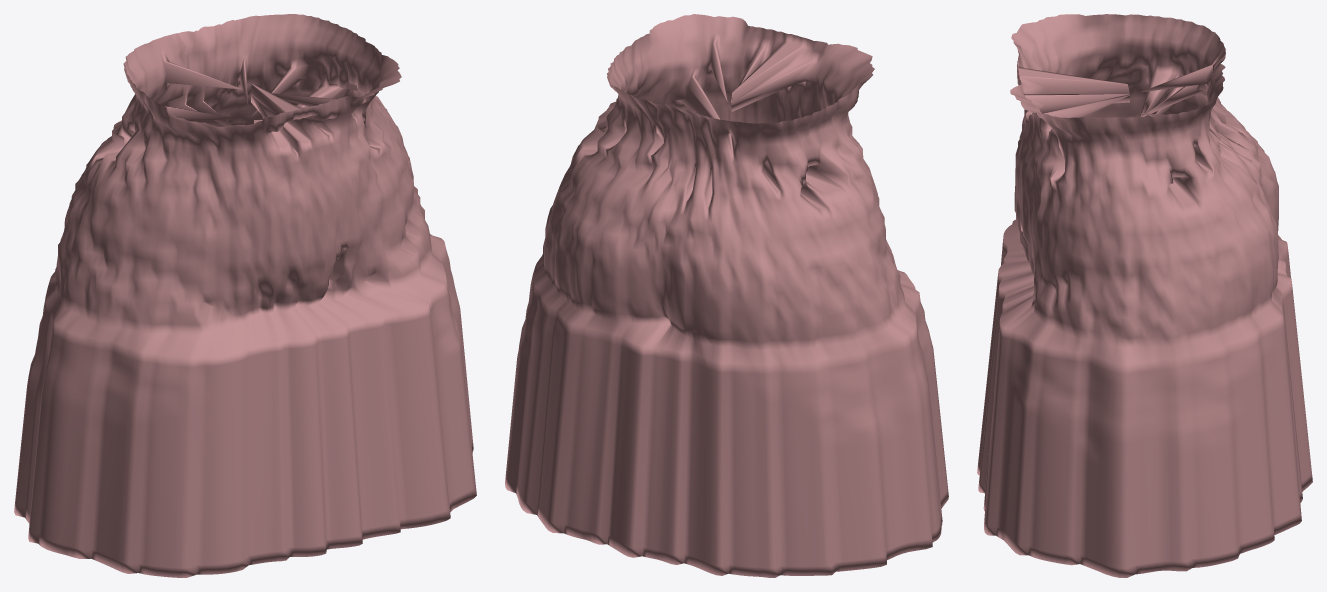
File: bottom_f_skirt.glb
3 renders of one model, left to right at view 1: azimuth 30°, elevation 25°; view 2: azimuth 150°, elevation 25°; view 3: azimuth 270°, elevation 25°, orthographic. The views are drawn at different scales.
Visible parts, largest first — view 1: bottom_f_skirt; view 2: bottom_f_skirt; view 3: bottom_f_skirt.
Boxes of the visible parts, bbox=[...] form: bottom_f_skirt: bbox=[14, 14, 476, 577]; bottom_f_skirt: bbox=[505, 14, 948, 577]; bottom_f_skirt: bbox=[977, 14, 1312, 577].
Bounding box in the file's own units: 0.6339 × 0.6037 × 0.4471.
1 material, 1 textured.
